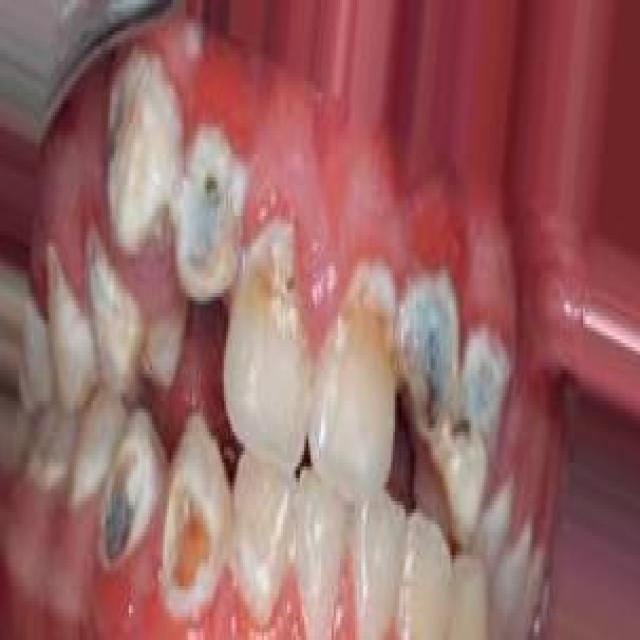caries: (396, 279, 461, 448), (159, 460, 222, 602), (95, 440, 148, 560)
